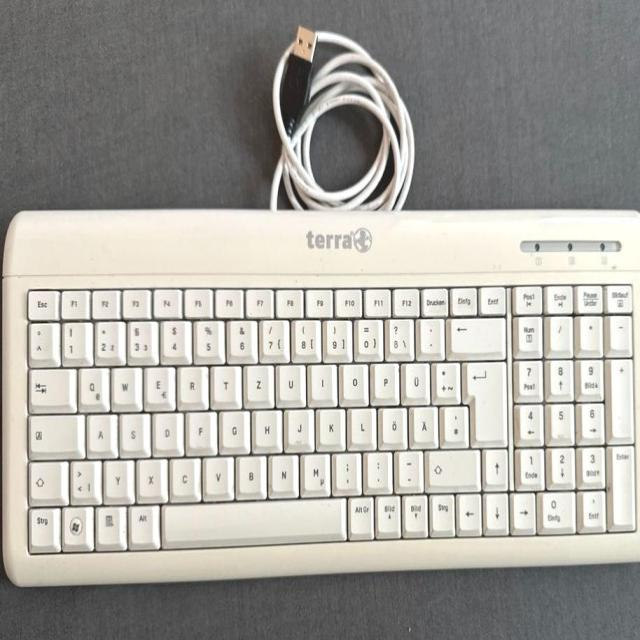0: (353, 314, 380, 356)
1: (59, 317, 89, 360)
2: (92, 316, 120, 359)
3: (125, 315, 153, 359)
4: (159, 315, 187, 357)
5: (192, 315, 221, 356)
6: (226, 315, 256, 356)
7: (258, 315, 286, 356)
8: (290, 315, 317, 358)
9: (321, 315, 349, 357)
a: (85, 409, 112, 451)
accent: (417, 314, 441, 352)
ae: (409, 401, 435, 443)
alt-left: (127, 500, 156, 544)
altgr-right: (346, 492, 371, 534)
b: (234, 451, 263, 494)
c: (168, 453, 196, 495)
caret: (27, 318, 52, 358)
comma: (331, 448, 358, 489)
d: (151, 407, 180, 450)
del: (445, 312, 501, 352)
e: (142, 361, 171, 404)
enter: (460, 356, 503, 441)
f: (185, 407, 214, 449)
g: (218, 405, 246, 447)
h: (251, 405, 278, 446)
hash: (440, 401, 465, 441)
i: (308, 359, 333, 398)
j: (283, 403, 311, 447)
k: (315, 403, 342, 444)
keyboard: (2, 208, 640, 589)
l: (347, 403, 373, 443)
less: (68, 455, 98, 499)
m: (299, 449, 328, 492)
minus: (394, 446, 420, 486)
n: (268, 450, 296, 492)
o: (339, 359, 365, 398)
oe: (378, 403, 404, 442)
p: (371, 358, 396, 398)
plus: (430, 357, 456, 399)
point: (363, 447, 389, 487)
q: (76, 362, 106, 406)
r: (176, 361, 204, 401)
s: (118, 408, 145, 451)
shift-left: (26, 457, 62, 500)
shift-lock: (26, 409, 79, 452)
shift-right: (424, 444, 476, 485)
space: (0, 206, 468, 275), (162, 498, 345, 546)
ss: (383, 314, 411, 356)
strg-left: (26, 503, 57, 547)
strg-right: (428, 490, 453, 532)
t: (210, 361, 237, 401)
tab: (26, 363, 69, 405)
u: (275, 360, 303, 401)
ue: (401, 357, 427, 398)
v: (201, 452, 230, 494)
w: (109, 362, 137, 404)
x: (135, 454, 164, 496)
y: (102, 455, 131, 497)
z: (243, 360, 270, 401)
